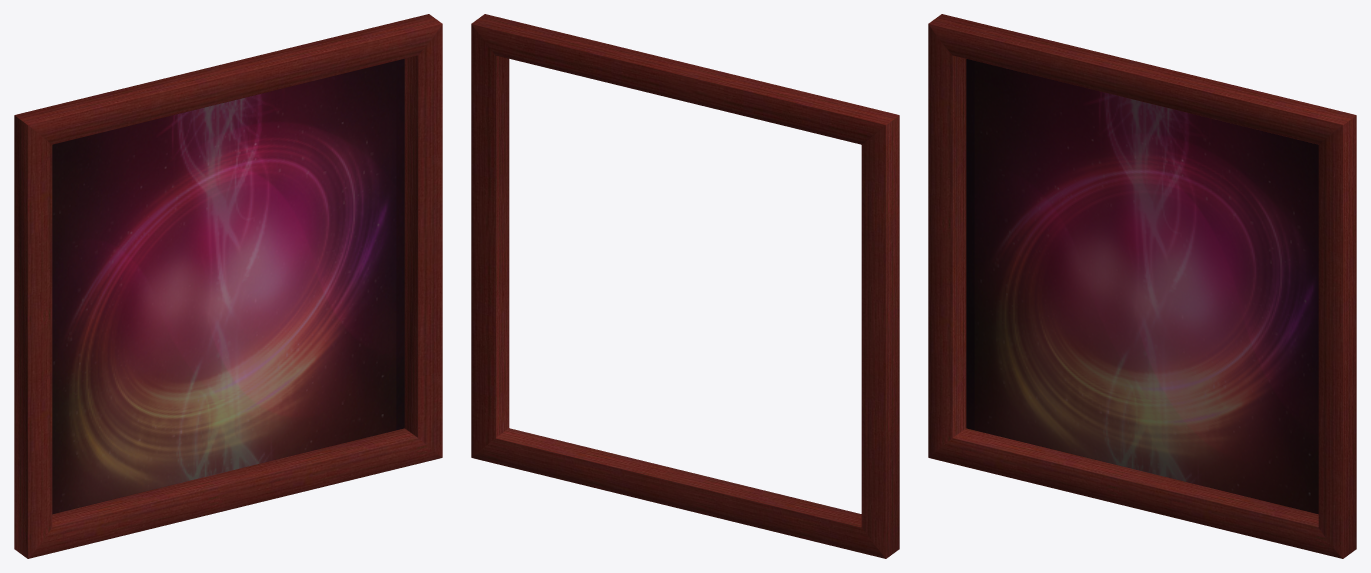
The picture shows the model from 3 angles, left to right: view 1: azimuth 30°, elevation 25°; view 2: azimuth 150°, elevation 25°; view 3: azimuth 330°, elevation 25°; orthographic projection.
Visible parts, largest first — view 1: Node; view 2: Node; view 3: Node.
Part boxes in pixels (x1,y1,x2,y2): Node: [14, 14, 442, 558]; Node: [471, 14, 899, 558]; Node: [928, 14, 1356, 558].
Bounding box in the file's own units: 0.4998 × 0.4997 × 0.03.
2 materials, 2 textured.
